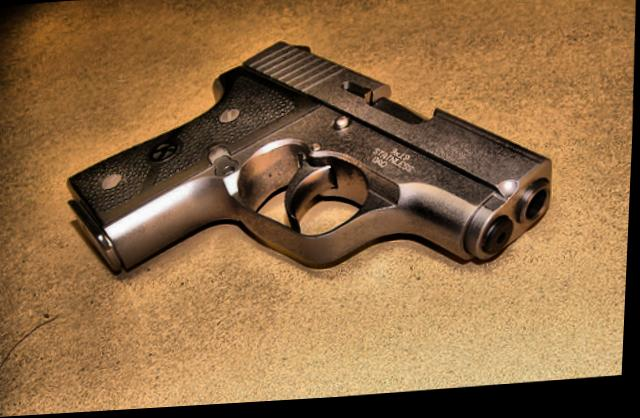pistol: (61, 27, 560, 293)
